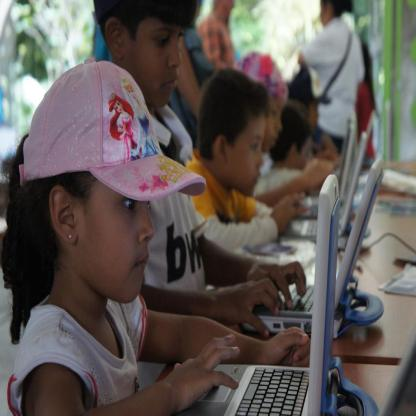board: (183, 174, 339, 416), (238, 159, 384, 337), (285, 131, 367, 239), (300, 118, 356, 217)
